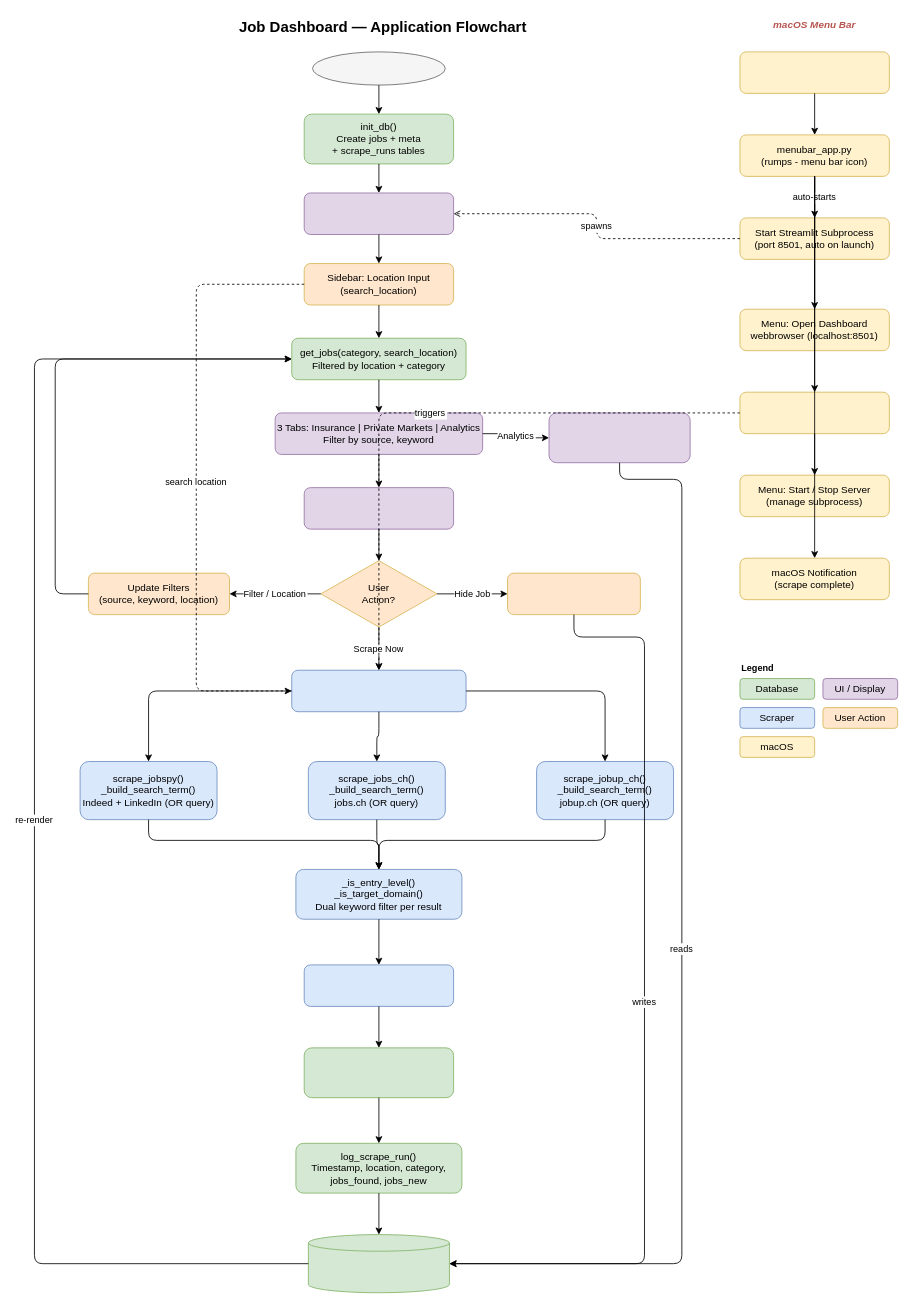
Some shapes in this 912 by 1307 pixel diagram are drawn without their labels. The box of each missing label's shape, as (x1, y1, x2, y2) in pixels:
Analytics Tab get_scrape_runs() Charts + run history: (548, 412, 690, 463)
App Launches: (312, 51, 445, 85)
hide_job(url) Set hidden=1 in DB: (507, 572, 640, 615)
Launch Dashboard.command (double-click launcher): (739, 51, 889, 93)
Menu: Scrape Now (background thread): (739, 391, 889, 434)
Merge & Deduplicate (by job_url): (303, 964, 454, 1006)
Render Job Cards (title, company, source, date): (303, 487, 454, 529)
run_all_categories(location) Insurance then Private Markets: (291, 669, 466, 712)
SQLite DB jobs + scrape_runs data/jobs.db: (308, 1234, 449, 1293)
Streamlit UI Loads (app.py): (303, 192, 454, 234)
upsert_jobs(df, category, search_location) executemany(): (303, 1047, 454, 1098)
